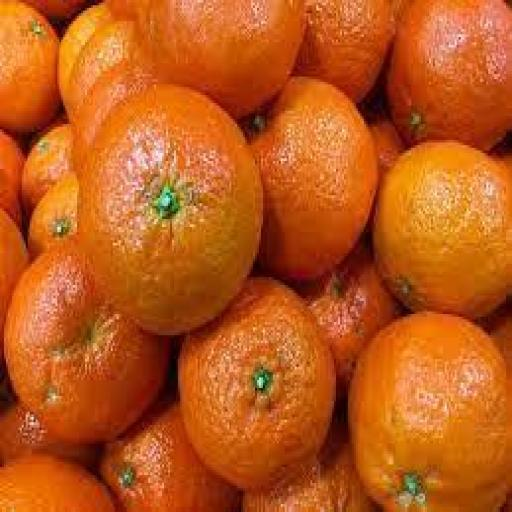orange: (80, 85, 262, 335), (4, 241, 170, 443), (178, 278, 336, 490), (348, 315, 508, 511), (374, 143, 511, 319)
